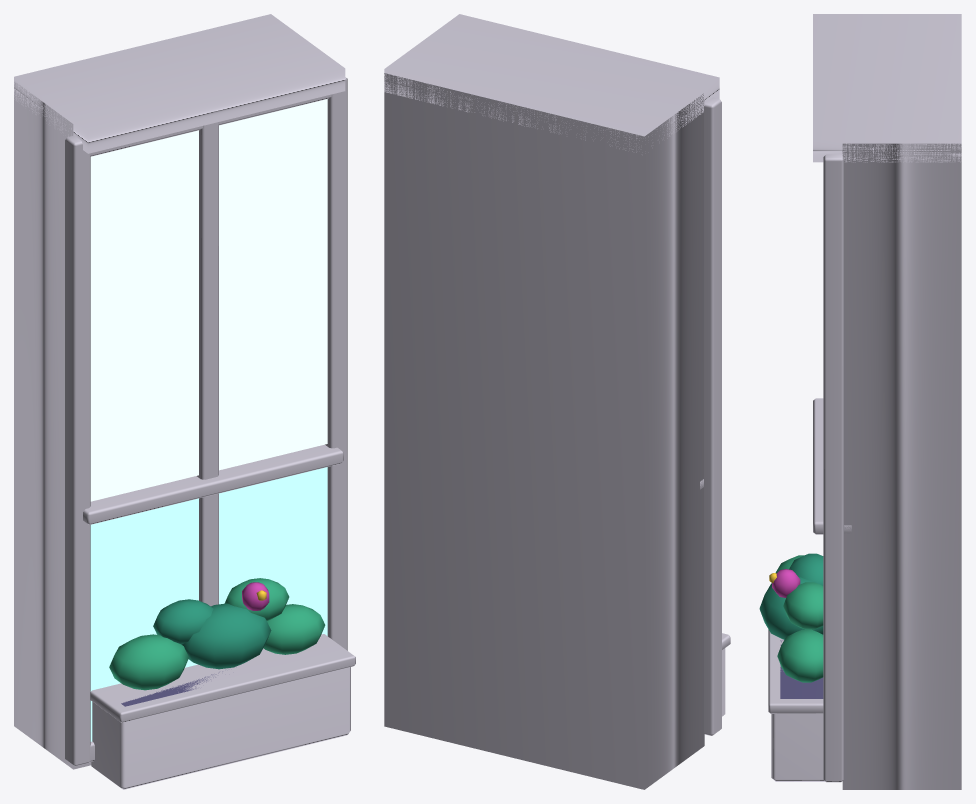
File: wall_solarium.glb
3 views of the same model, side by side, from view 1: azimuth 30°, elevation 25°; view 2: azimuth 150°, elevation 25°; view 3: azimuth 270°, elevation 25° (orthographic).
Visible parts, largest first — view 1: Wall; view 2: Wall; view 3: Wall.
Part boxes in pixels (x1,y1,x2,y2): Wall: (14,14,355,789); Wall: (384,14,730,789); Wall: (759,14,961,789).
Bounding box in the file's own units: 1.07 × 2.41 × 0.68.
